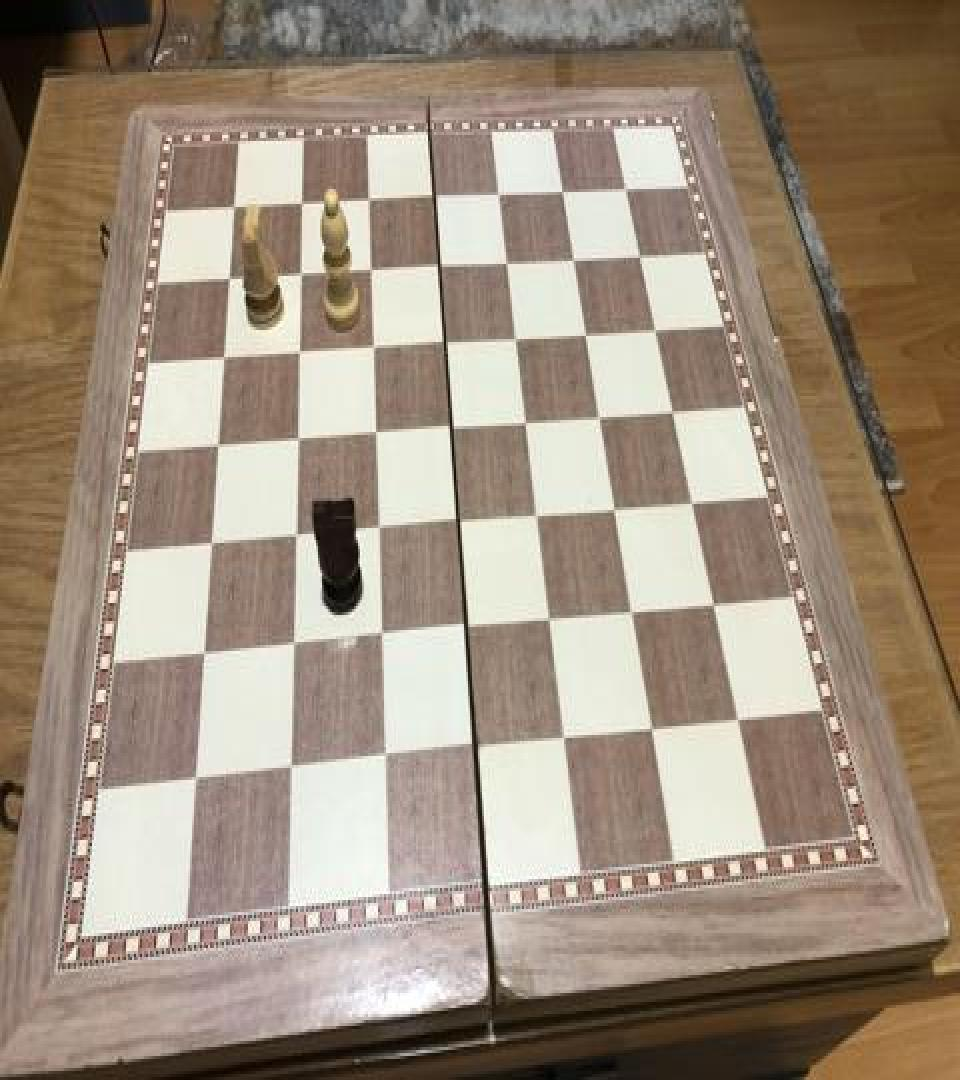xcorner: (371, 616, 395, 653), (725, 697, 749, 734), (615, 170, 639, 206), (489, 176, 513, 212), (425, 178, 449, 214), (359, 182, 383, 218), (293, 184, 317, 220), (629, 237, 653, 273), (564, 240, 588, 276), (497, 244, 521, 280), (430, 248, 454, 284), (361, 250, 385, 286), (291, 255, 315, 291), (220, 258, 244, 294), (644, 310, 668, 346), (576, 315, 600, 351), (506, 320, 530, 356), (435, 324, 459, 360), (290, 333, 314, 369), (215, 338, 239, 374), (661, 392, 685, 428), (589, 398, 613, 434), (516, 402, 540, 438), (442, 408, 466, 444), (366, 414, 390, 450), (288, 418, 312, 454), (209, 424, 233, 460), (680, 483, 704, 519), (605, 489, 629, 525), (527, 495, 551, 531), (449, 502, 473, 538), (368, 508, 392, 544), (286, 516, 310, 552), (202, 524, 226, 560), (701, 584, 725, 620), (622, 591, 646, 627), (540, 600, 564, 636), (457, 608, 481, 644), (284, 624, 308, 660), (195, 633, 219, 669), (641, 706, 665, 742), (554, 717, 578, 753), (465, 726, 489, 762), (375, 736, 399, 772), (282, 747, 306, 783), (187, 759, 211, 795), (552, 173, 576, 208), (225, 188, 249, 223), (363, 329, 387, 364)
